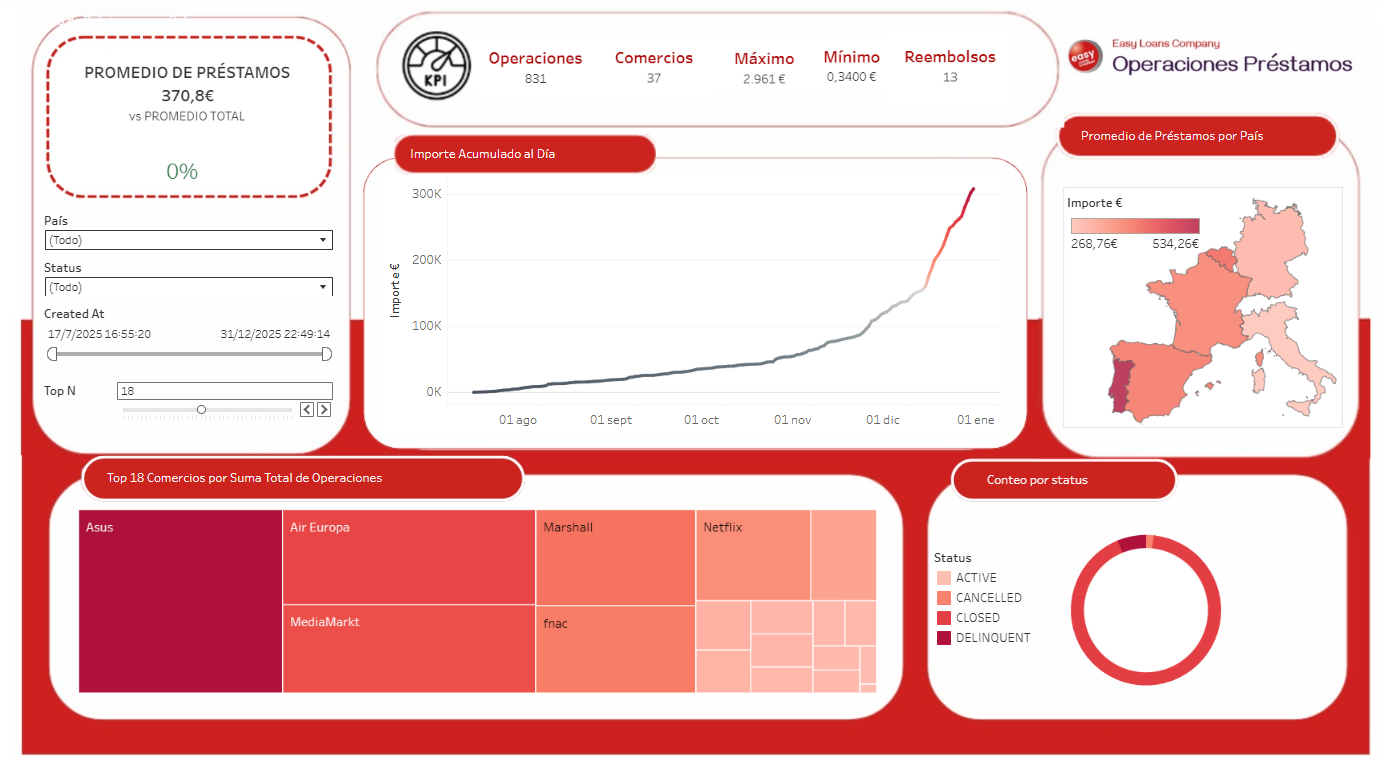

The page's visual inventory and layout, read from the dashboard file:
{"tool":"tableau","page":{"name":"Dashboard Easy Loans","canvas":[1400,850],"ordinal":0},"visuals":[{"type":"image","param":"Image/Fondo Easy Loans.png","box":[8,8,1384,834]},{"type":"text","box":[18,18,235,30]},{"type":"worksheet","title":"Reembolsos","mark":"Automatic","box":[895,40,126,76]},{"type":"worksheet","title":"Promedio préstamos","mark":"Automatic","box":[65,43,261,124]},{"type":"worksheet","title":"Comercios","mark":"Automatic","box":[604,49,117,60]},{"type":"worksheet","title":"Operaciones","mark":"Automatic","box":[481,50,126,58]},{"type":"worksheet","title":"Máximo","mark":"Automatic","box":[713,53,118,53]},{"type":"worksheet","title":"Mínimo","mark":"Automatic","box":[809,53,101,49]},{"type":"text","box":[1089,133,235,30]},{"type":"text","box":[418,151,189,30]},{"type":"worksheet","title":"Desviación del promedio total","mark":"Automatic","box":[88,159,203,48]},{"type":"worksheet","title":"Acumulado de ventas","mark":"Line","rows":["Calculation_0903301401702402"],"cols":["created_at"],"box":[387,190,621,257]},{"type":"worksheet","title":"Promedio por país","mark":"Multipolygon","box":[1071,200,280,241]},{"type":"legend","title":"Promedio por país","param":"[federated.0r9aijz1xvc1jr16qsxf002bg8fd].[usr:Calculation_1205391991799808:qk]","box":[1075,207,137,66]},{"type":"filter","title":"Promedio préstamos","param":"[federated.0r9aijz1xvc1jr16qsxf002bg8fd].[none:country:nk]","box":[48,220,298,46.7]},{"type":"filter","title":"Promedio préstamos","param":"[federated.0r9aijz1xvc1jr16qsxf002bg8fd].[none:status:nk]","box":[48,266.7,298,46.7]},{"type":"filter","title":"Promedio préstamos","param":"[federated.0r9aijz1xvc1jr16qsxf002bg8fd].[none:created_at:qk]","box":[48,313.3,298,77]},{"type":"parameter","param":"[Parameters].[Parámetro 1]","box":[48,390.3,298,46.7]},{"type":"text","box":[115,475,353,30]},{"type":"text","box":[995,477,133,30]},{"type":"worksheet","title":"Operaciones por estado de la operación","mark":"Pie","rows":["Calculation_1213089631260674","Calculation_1213089631637511"],"box":[930,488,448,270]},{"type":"worksheet","title":"Importe Total por Comercio","mark":"Automatic","box":[82,518,806,192]},{"type":"legend","title":"Operaciones por estado de la operación","param":"[federated.0r9aijz1xvc1jr16qsxf002bg8fd].[none:status:nk]","box":[942,562,140,106]}]}

Visuals, with their boxes on the page's 1400x850 design canvas (x1, y1, x2, y2). These are canvas units, not pixel positions in the 1385x768 screenshot, which may show the page scaled, cropped or inside an application window:
image: (8,8,1392,842)
text: (18,18,253,48)
"Reembolsos" worksheet: (895,40,1021,116)
"Promedio préstamos" worksheet: (65,43,326,167)
"Comercios" worksheet: (604,49,721,109)
"Operaciones" worksheet: (481,50,607,108)
"Máximo" worksheet: (713,53,831,106)
"Mínimo" worksheet: (809,53,910,102)
text: (1089,133,1324,163)
text: (418,151,607,181)
"Desviación del promedio total" worksheet: (88,159,291,207)
"Acumulado de ventas" worksheet (Line marks): (387,190,1008,447)
"Promedio por país" worksheet (Multipolygon marks): (1071,200,1351,441)
"Promedio por país" legend: (1075,207,1212,273)
"Promedio préstamos" filter: (48,220,346,267)
"Promedio préstamos" filter: (48,267,346,313)
"Promedio préstamos" filter: (48,313,346,390)
parameter: (48,390,346,437)
text: (115,475,468,505)
text: (995,477,1128,507)
"Operaciones por estado de la operación" worksheet (Pie marks): (930,488,1378,758)
"Importe Total por Comercio" worksheet: (82,518,888,710)
"Operaciones por estado de la operación" legend: (942,562,1082,668)
